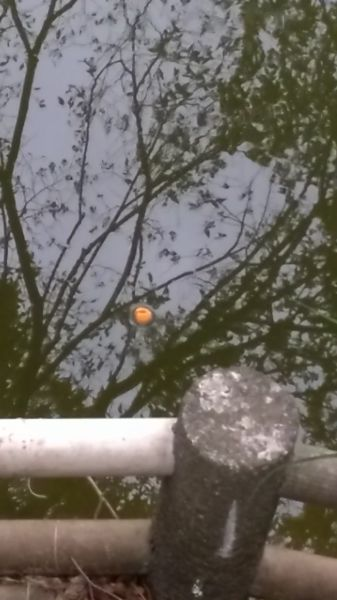eggs: (130, 304, 158, 328)
